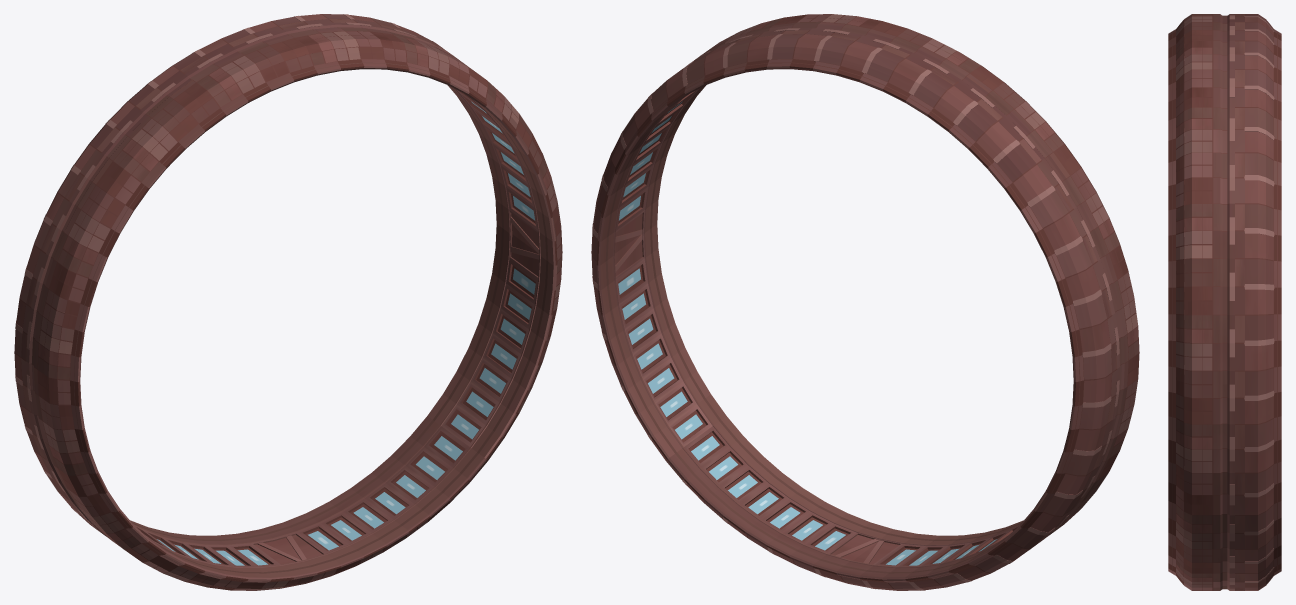
File: ring.obj
3 views of the same model, side by side, from view 1: azimuth 30°, elevation 25°; view 2: azimuth 150°, elevation 25°; view 3: azimuth 270°, elevation 25° (orthographic). The views are drawn at different scales.
Visible parts, largest first — view 1: Cylinder.004, Cylinder.003_Cylinder.000; view 2: Cylinder.004, Cylinder.003_Cylinder.000; view 3: Cylinder.004.
Part boxes in pixels (left/top/right/bottom): Cylinder.004: left=14, top=14, right=562, bottom=590; Cylinder.003_Cylinder.000: left=157, top=101, right=535, bottom=565; Cylinder.004: left=591, top=14, right=1139, bottom=590; Cylinder.003_Cylinder.000: left=618, top=101, right=996, bottom=565; Cylinder.004: left=1168, top=14, right=1281, bottom=590.
Bounding box in the file's own units: 2.33 × 2.33 × 0.4566.
7 materials, 7 textured.
